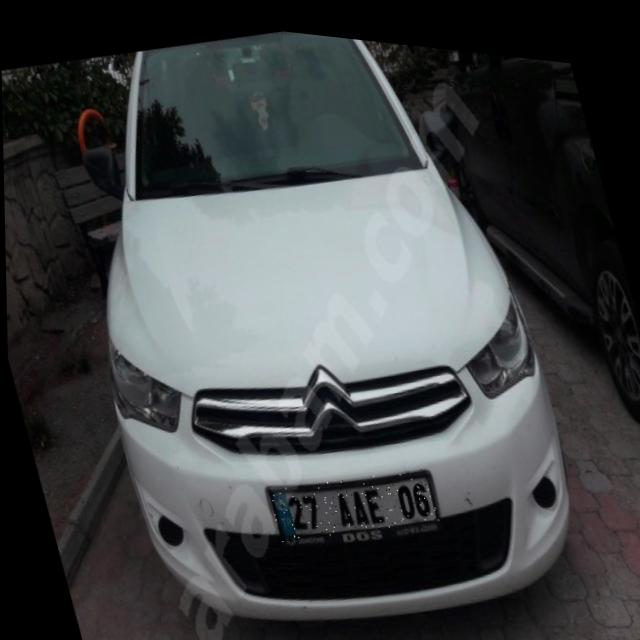license_plate: (265, 445, 437, 550)
